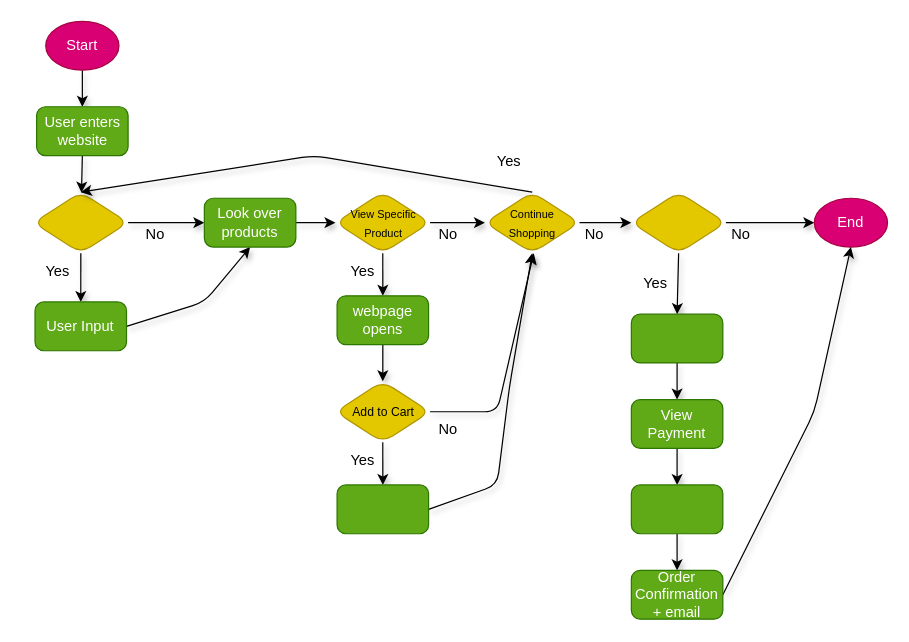
The diagram is 909 pixels wide and 642 high, and some of its shapes have lost their labels. Each missing label, with the centre of its shape:
added to cart confirmation: (382,509)
Checkout: (678,222)
Input Payment Info: (676,509)
Search: (80,222)
View Cart: (676,338)
